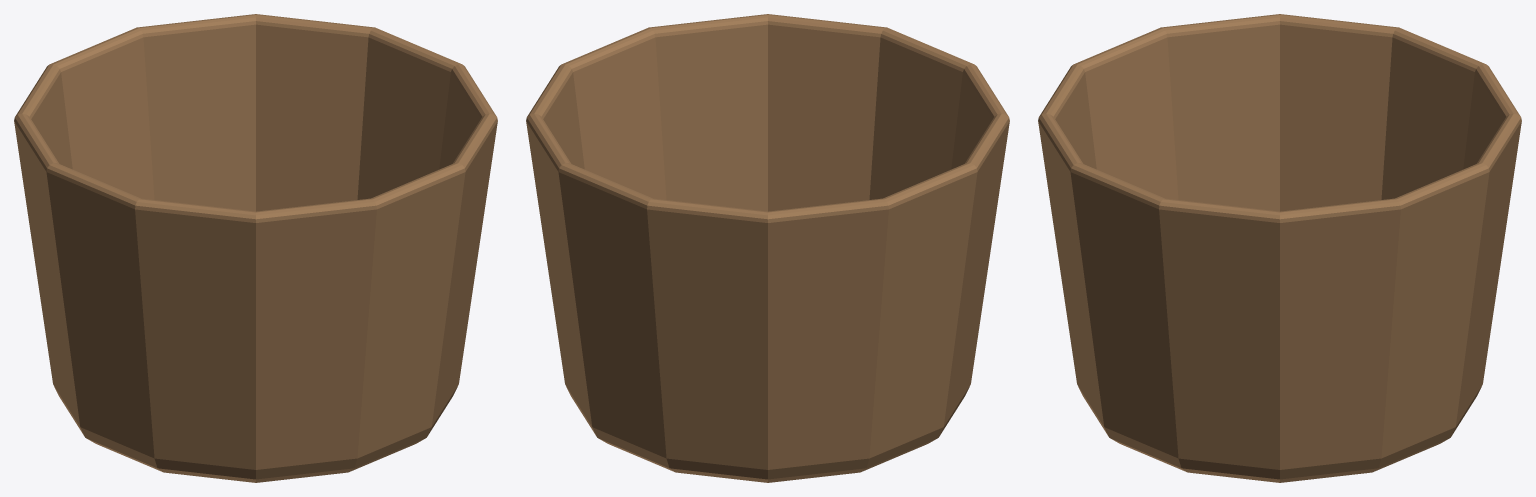
The model's file is Food Bowl Var 2.fbx.
3 views of the same model, side by side, from view 1: azimuth 30°, elevation 25°; view 2: azimuth 150°, elevation 25°; view 3: azimuth 270°, elevation 25° (orthographic).
Visible parts, largest first — view 1: Food Bowl Var 2; view 2: Food Bowl Var 2; view 3: Food Bowl Var 2.
Boxes of the visible parts, bbox=[...] form: Food Bowl Var 2: bbox=[14, 14, 497, 482]; Food Bowl Var 2: bbox=[526, 14, 1009, 482]; Food Bowl Var 2: bbox=[1038, 14, 1521, 482].
Bounding box in the file's own units: 27.2 × 18.26 × 27.2.
